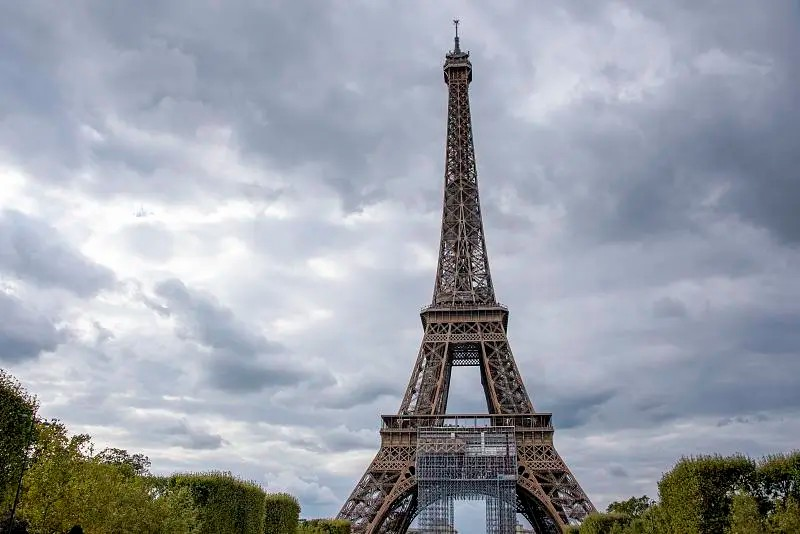Eiffel: (334, 20, 596, 534)
